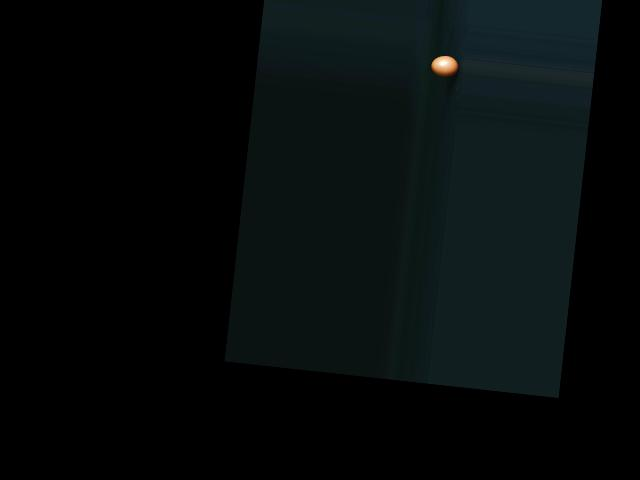egg: (430, 55, 459, 78)
